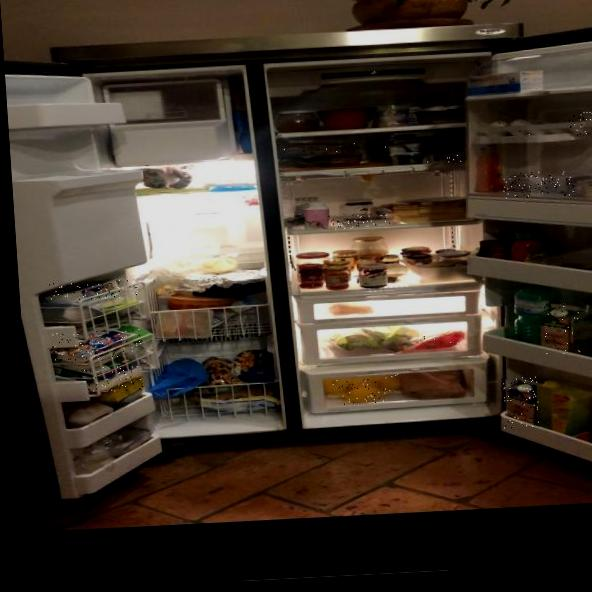cheese: (52, 329, 144, 362), (49, 279, 137, 302), (84, 365, 144, 393)
eggs: (485, 116, 534, 137), (567, 110, 592, 135)
ham: (278, 140, 359, 156)
lemon: (340, 386, 387, 405), (378, 373, 404, 392), (325, 378, 350, 395), (348, 378, 382, 390)
meat: (328, 212, 392, 230)
milk: (501, 376, 541, 429), (543, 302, 582, 355)
onion: (419, 330, 465, 350)
yoghurt: (503, 170, 582, 199), (574, 175, 592, 207), (424, 151, 464, 164), (385, 143, 423, 156)
